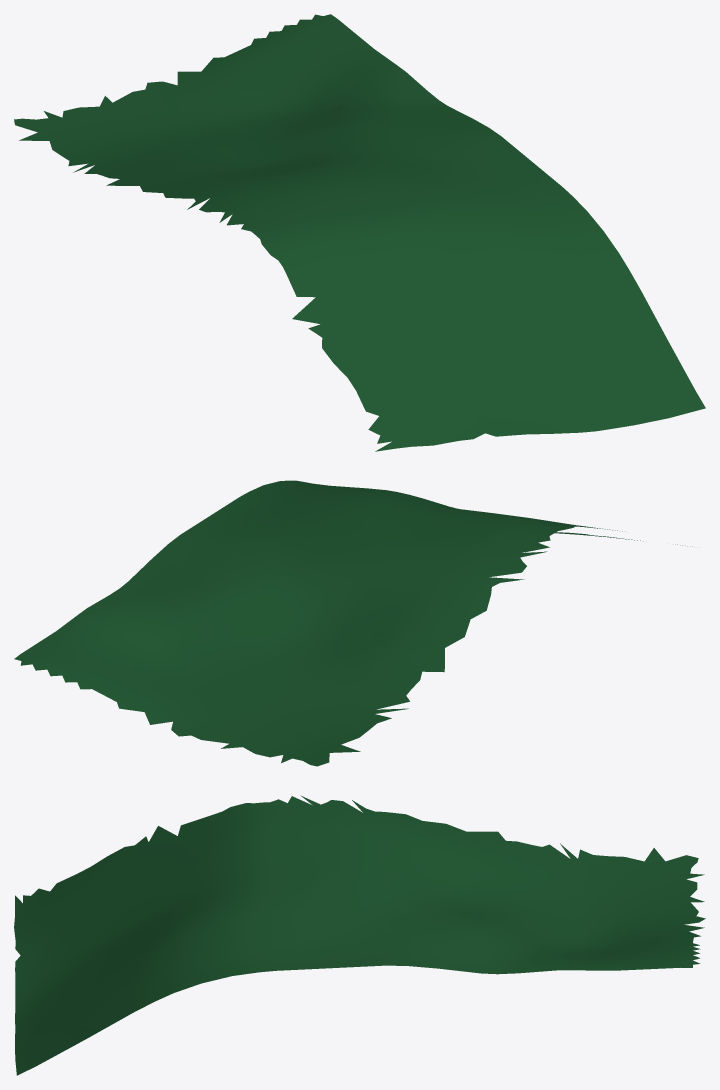
The model's file is payo_land_xm5_ym1_lod1.glb.
3 renders of one model, top to bottom at view 1: azimuth 30°, elevation 25°; view 2: azimuth 150°, elevation 25°; view 3: azimuth 270°, elevation 25°, orthographic. The views are drawn at different scales.
Parts seen in each view (by area): view 1: payo_land_xm5_ym1; view 2: payo_land_xm5_ym1; view 3: payo_land_xm5_ym1.
Boxes of the visible parts, x1=… form: payo_land_xm5_ym1: x1=14, y1=14, x2=705, y2=451; payo_land_xm5_ym1: x1=14, y1=480, x2=692, y2=766; payo_land_xm5_ym1: x1=14, y1=795, x2=705, y2=1075.
Size of the model in its own units: 131 by 56.46 by 260.
